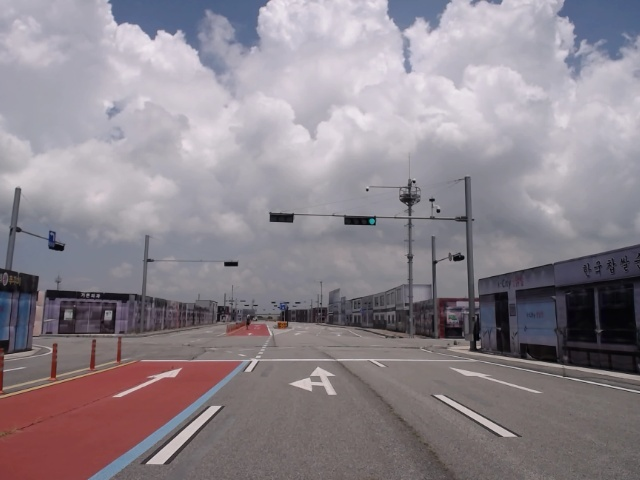straight_green_4: (344, 216, 375, 225)
